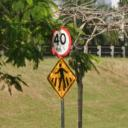speed_limit_40: (50, 26, 72, 58)
